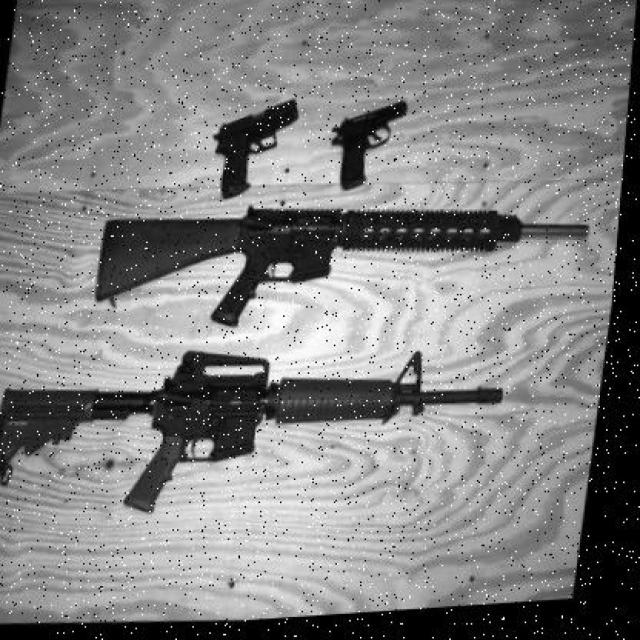weapon: (0, 349, 505, 516), (93, 203, 590, 331), (214, 100, 300, 202), (329, 98, 408, 193)
